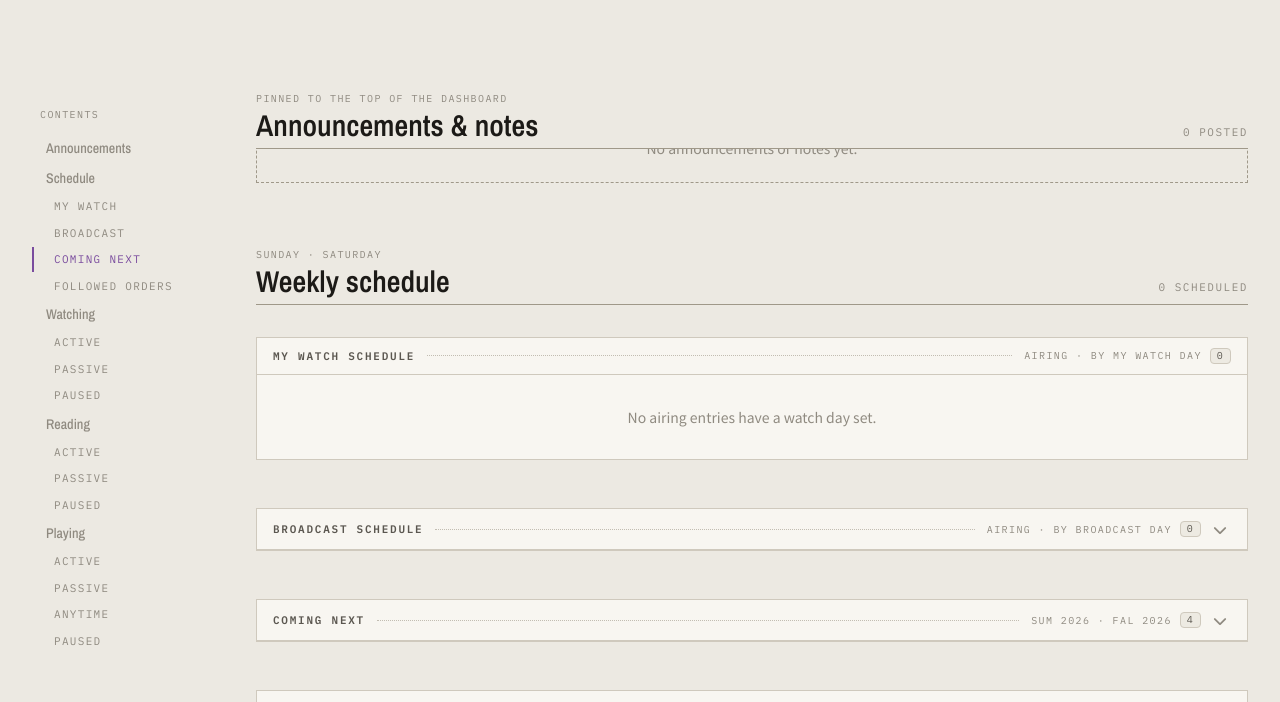
Test case: shows this season's not-yet-aired entries in their own block, before next season's
Expected: the element showing "Coming next SUM 2026 · FAL 2026 4" is shown, left=256, top=599, right=1248, bottom=642
Expected: the text "4" is shown, left=1180, top=612, right=1201, bottom=628
Step 1. Click the button named "Expand" in the row of "FAL 2026" → (1220, 620), box left=1209, top=610, right=1231, bottom=630
(page scrolled)
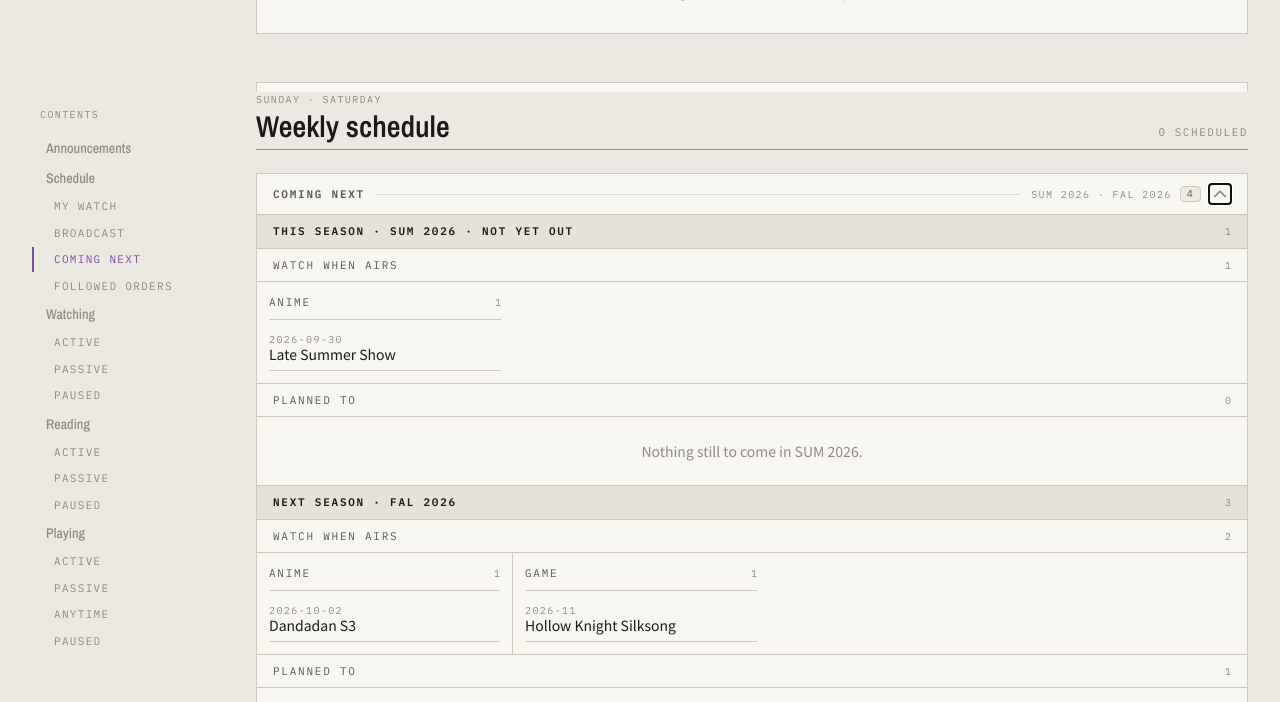
Expected: the text "Late Summer Show" is shown, left=269, top=344, right=396, bottom=364
